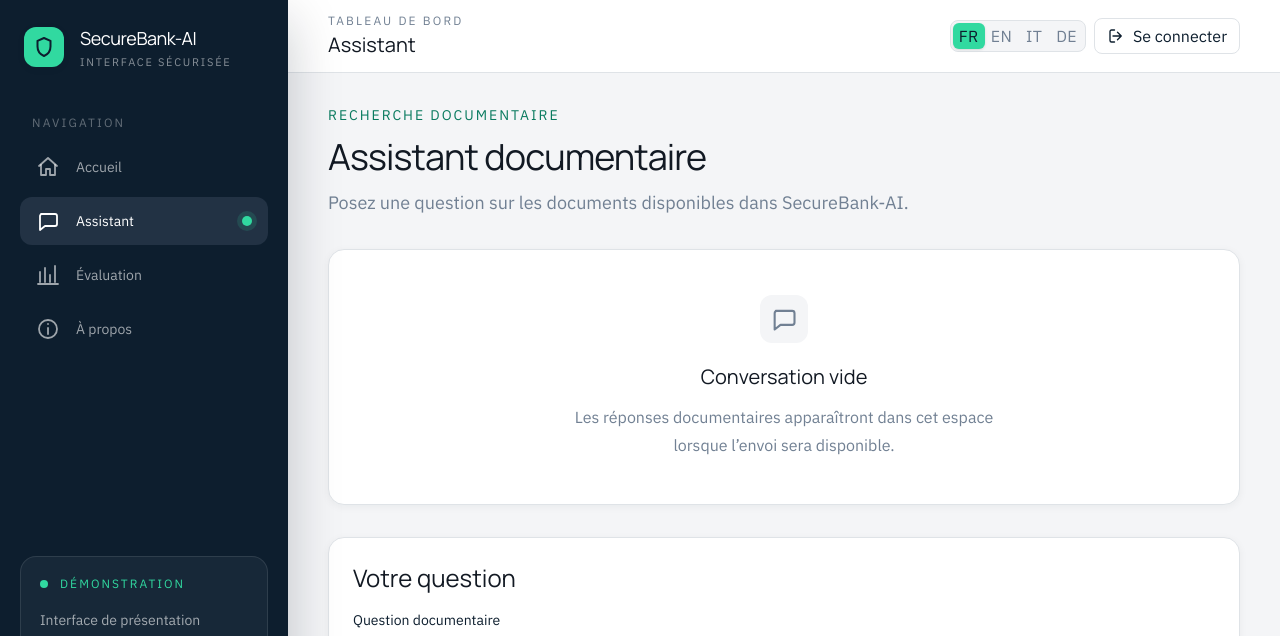
Test case: on-demand authentication › exposes a visible login action in the header
Click the button "Se connecter" at (1167, 36), box [1094,18,1240,54]
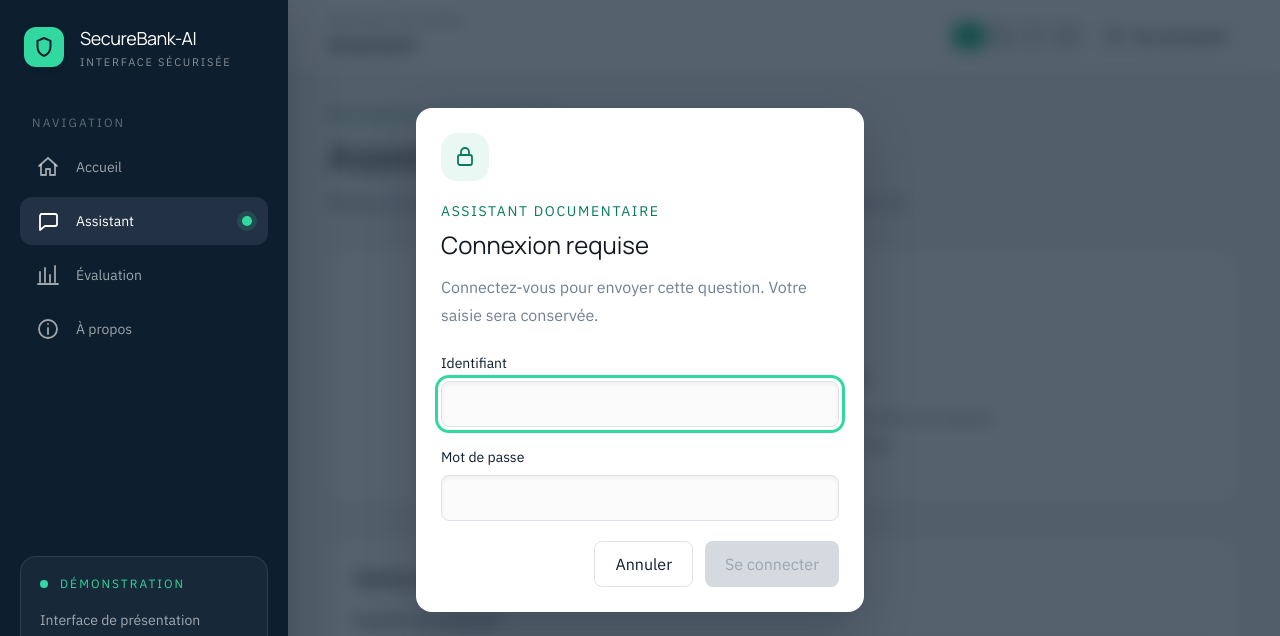
Expected: the dialog "Connexion requise" is shown, [416,108,864,612]
